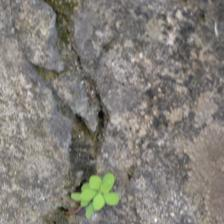Crack: (23, 3, 93, 141)
